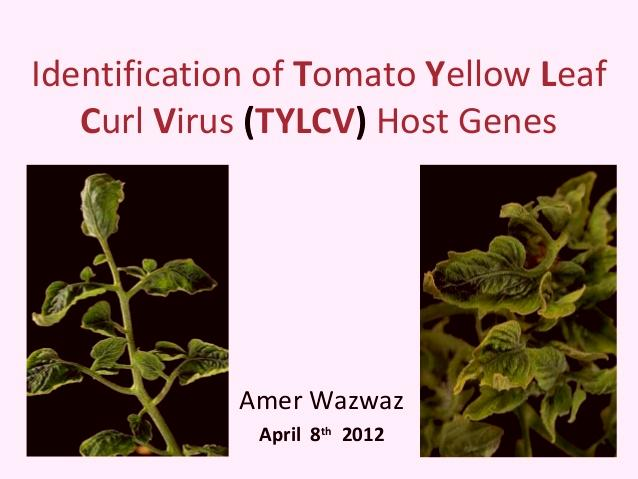Tomato leaf yellow virus: (447, 322, 562, 399), (429, 236, 544, 312), (76, 164, 125, 248), (134, 250, 223, 296), (30, 274, 106, 327)
